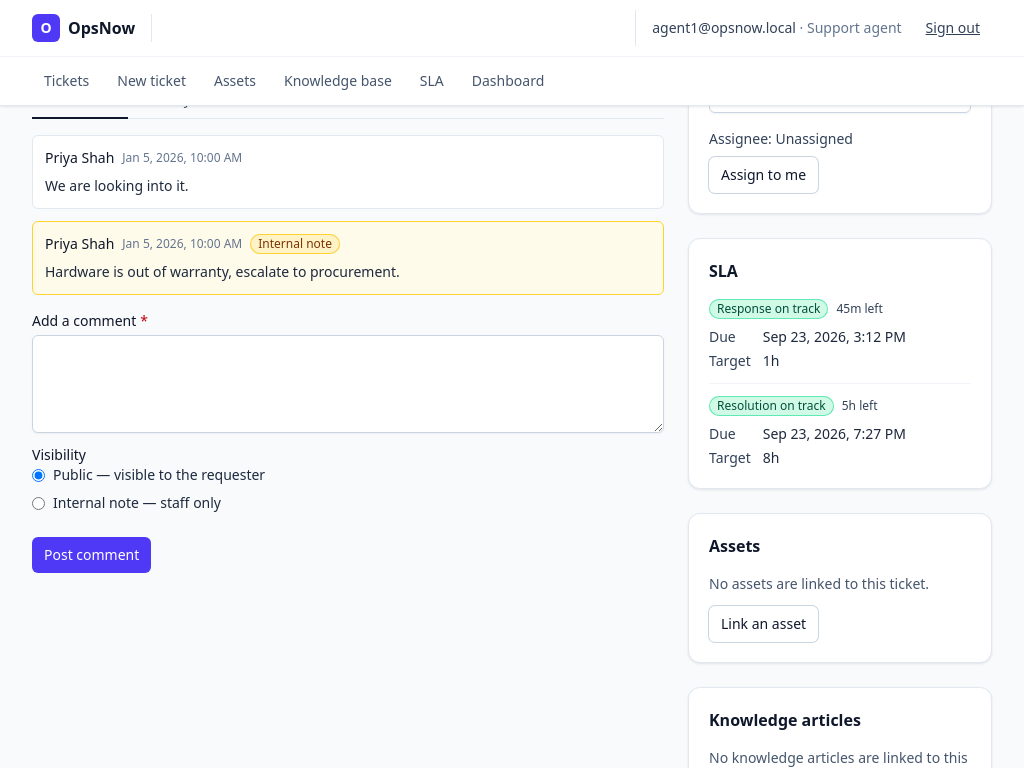
Test case: ticket detail — failure states › keeps the comment draft when posting fails
(page scrolled)
Type "A carefully written comment that must not be lost." into the text box labelled "Add a comment*" at (348, 384), box [32,335,664,433]
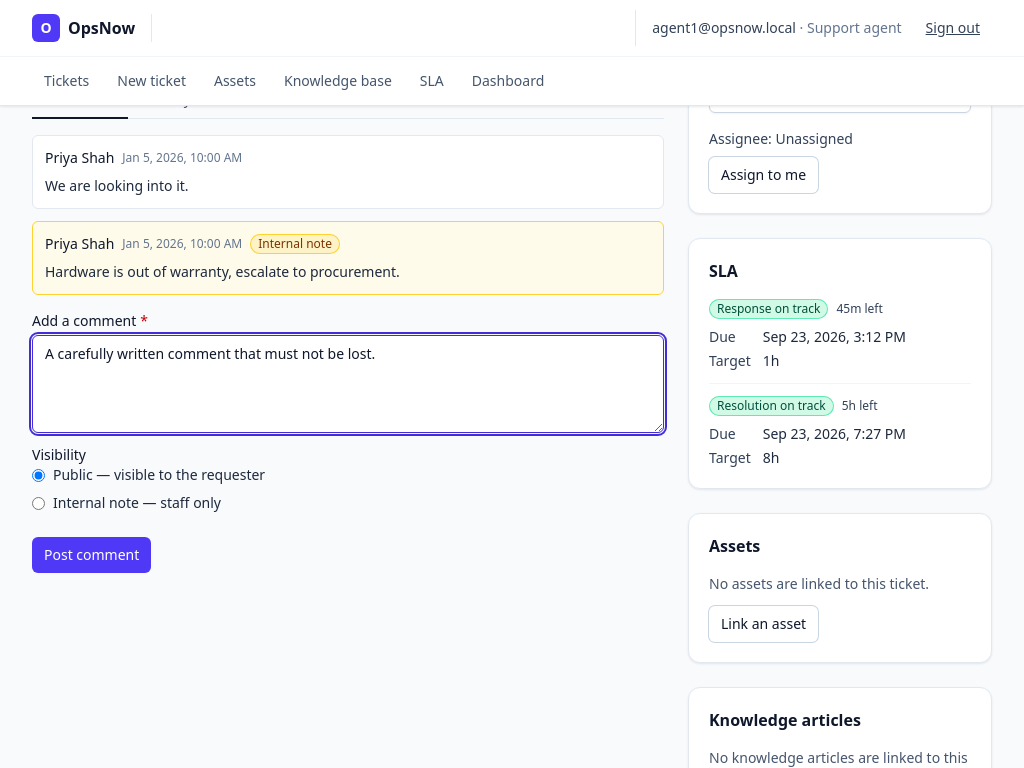
Click the button "Post comment" at (92, 555), box [32,537,151,573]
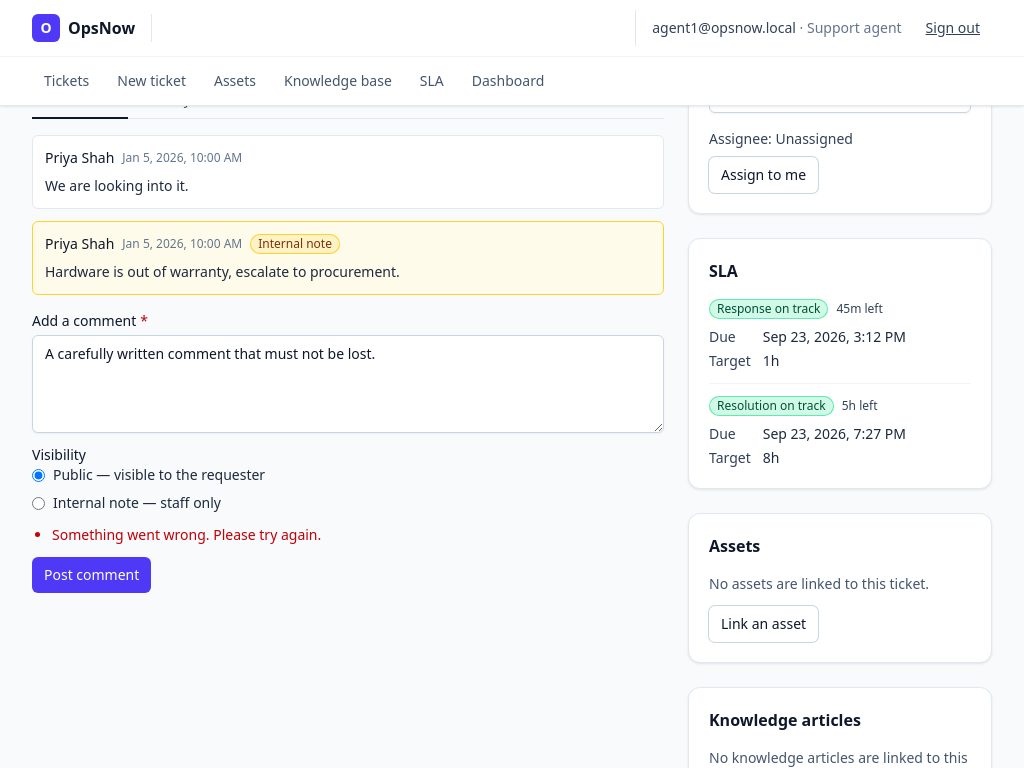
Expected: the list item "Something went wrong. Please try again." is shown, [52,525,321,544]
